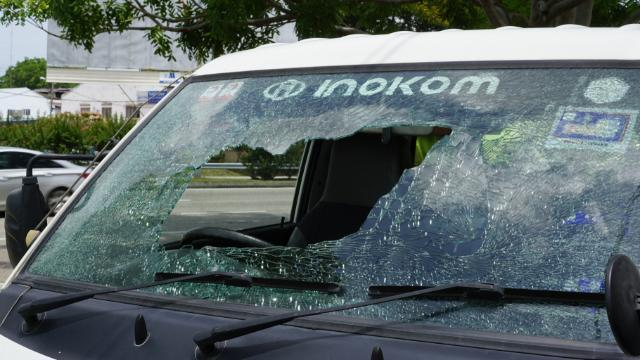Windshield: (81, 85, 631, 340)
